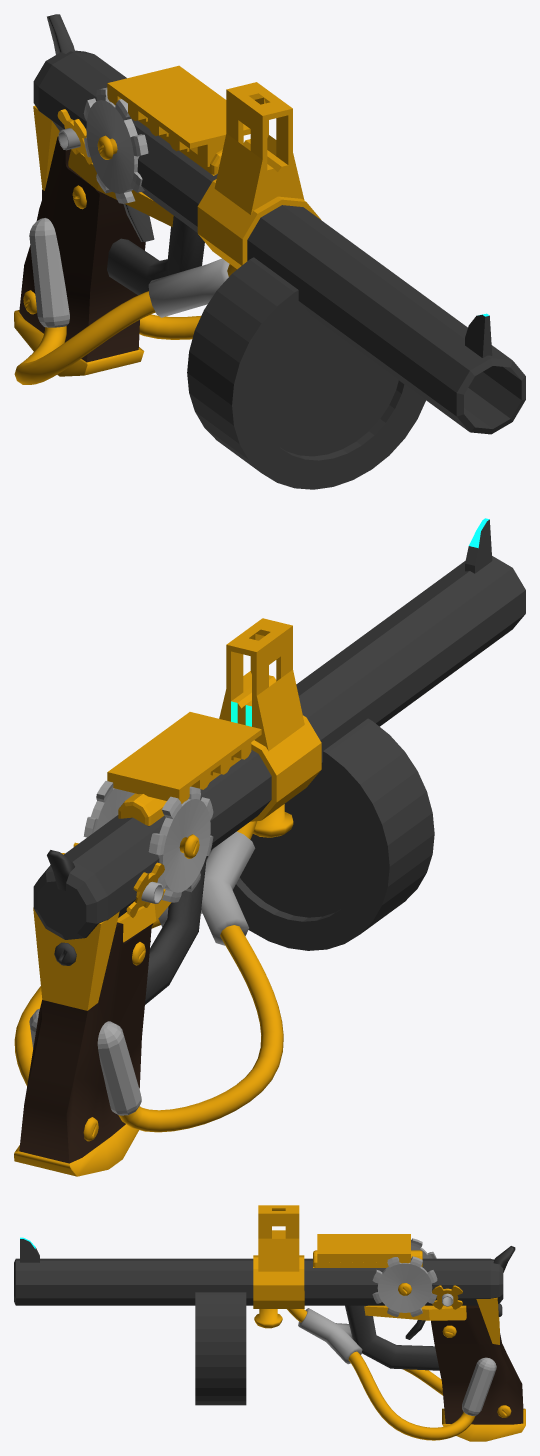
File: DesertModified.fbx
3 renders of one model, top to bottom at view 1: azimuth 30°, elevation 25°; view 2: azimuth 150°, elevation 25°; view 3: azimuth 270°, elevation 25°, orthographic. The views are drawn at different scales.
Parts seen in each view (by area): view 1: Canon, Cylinder, HandGrip.001, Sponge.001, Cylinder.003, BézierCurve, Gear.002, BézierCurve.002, Sphere, Wye Joint, Cube.004, Cube.003 (+4 smaller); view 2: Canon, Cylinder, HandGrip.001, Cylinder.003, BézierCurve, Sponge.001, Gear.002, Cube.003, Wye Joint, BézierCurve.002, Sphere, Cube.002 (+2 smaller); view 3: Canon, HandGrip.001, Cylinder, Cylinder.003, Gear.002, Sponge.001, BézierCurve.002, BézierCurve, Wye Joint, Sphere, Cube.004, Cube.003 (+3 smaller).
Part boxes in pixels (x1,y1,x2,y2): Canon: (33,50,525,434); Cylinder: (187,257,425,489); HandGrip.001: (14,136,145,376); Sponge.001: (214,82,304,214); Cylinder.003: (107,65,250,175); BézierCurve: (14,291,200,384); Gear.002: (83,87,148,203); BézierCurve.002: (107,216,204,295); Sphere: (29,218,69,327); Wye Joint: (148,258,229,317); Cube.004: (68,149,173,226); Cube.003: (33,105,59,190); Canon: (33,556,525,939); Cylinder: (206,718,434,950); HandGrip.001: (14,922,153,1176); Cylinder.003: (107,712,261,825); BézierCurve: (14,919,283,1132); Sponge.001: (219,618,304,750); Gear.002: (83,781,213,902); Cube.003: (33,907,119,1010); Wye Joint: (158,831,255,945); BézierCurve.002: (145,856,206,1004); Sphere: (29,1008,141,1115); Cube.002: (465,518,492,573); Canon: (14,1255,503,1308); HandGrip.001: (431,1305,525,1441); Cylinder: (195,1292,246,1405); Cylinder.003: (313,1234,422,1267); Gear.002: (372,1238,437,1316); Sponge.001: (258,1205,299,1271); BézierCurve.002: (345,1305,439,1370); BézierCurve: (348,1351,475,1440); Wye Joint: (298,1308,362,1364); Sphere: (462,1357,496,1415); Cube.004: (364,1305,466,1320); Cube.003: (476,1297,499,1344).
Bounding box in the file's own units: 12.64 × 19.03 × 39.55.
